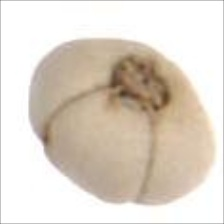L5: (39, 87, 159, 203), (105, 52, 181, 119)
L6: (26, 35, 218, 208)
